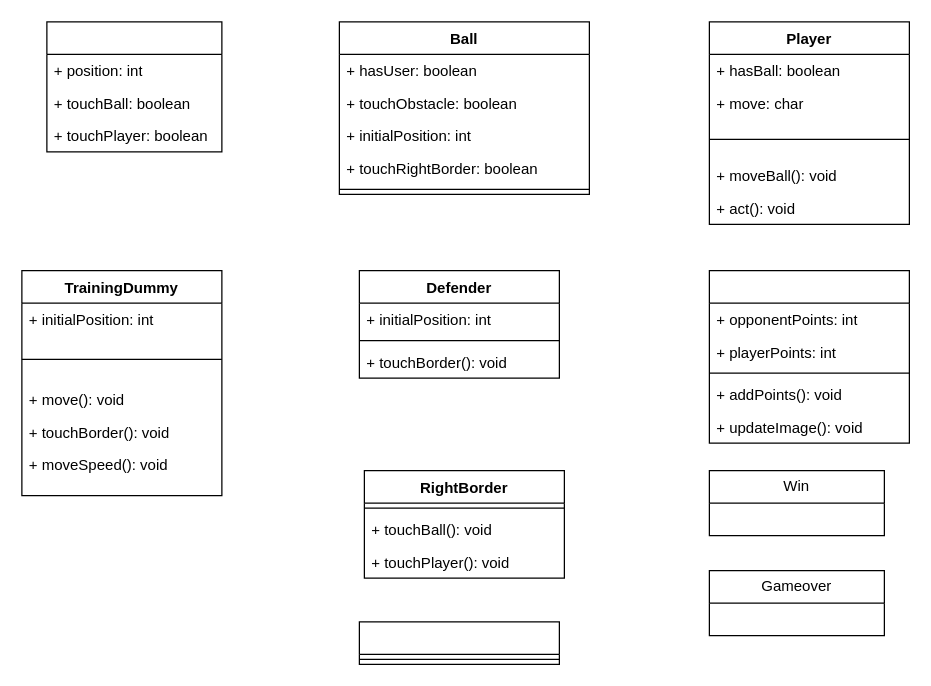
Image size: 931x686. Some labels were removed from this diagram. The shapes that lost their labels are listed below. From the top down, each one's box as (x1, y1, x2, y2) in pixels, then its label:
(46, 21, 222, 152): Rock
(708, 269, 909, 443): Score
(358, 621, 559, 664): Border
